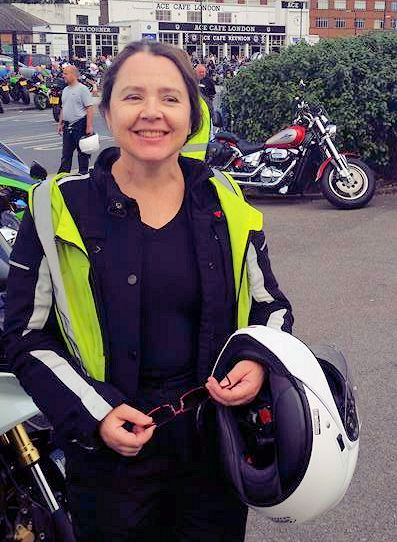with_helmet: (202, 319, 359, 537)
